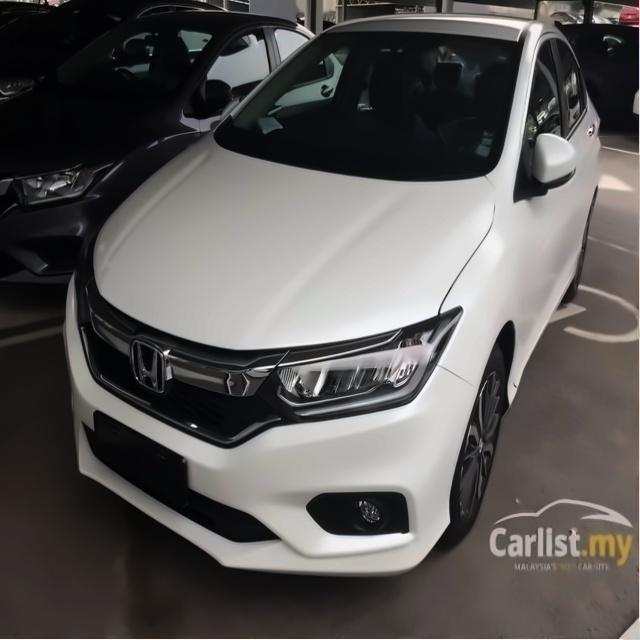Car hood: (82, 122, 501, 353)
Fender - -F-L-: (428, 164, 522, 404)
Front bumper: (48, 362, 483, 593)
Headlight - -L-: (260, 298, 472, 431)
Headlight - -R-: (56, 226, 114, 359)
Passenger-s door - -F-L-: (518, 30, 566, 340)
Passenger-s door - -R-L-: (551, 28, 604, 311)
Side bumper - -L-: (500, 240, 597, 417)
Side mirror - -L-: (516, 126, 599, 199)
